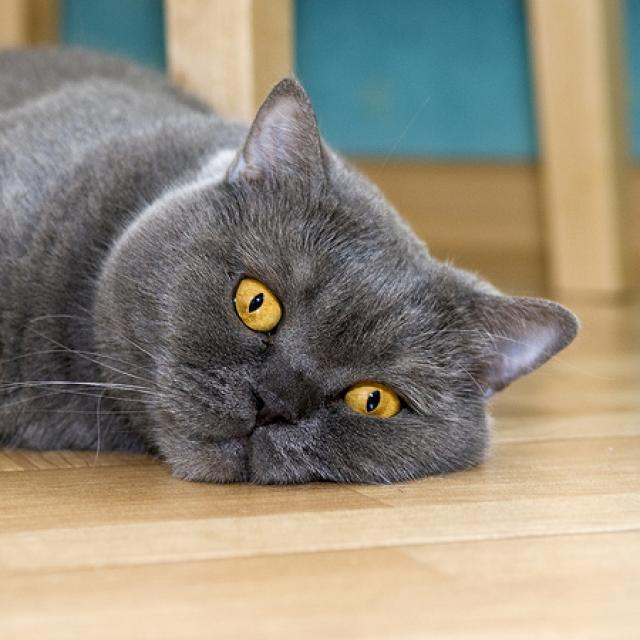British Shorthair: (0, 32, 583, 494)
